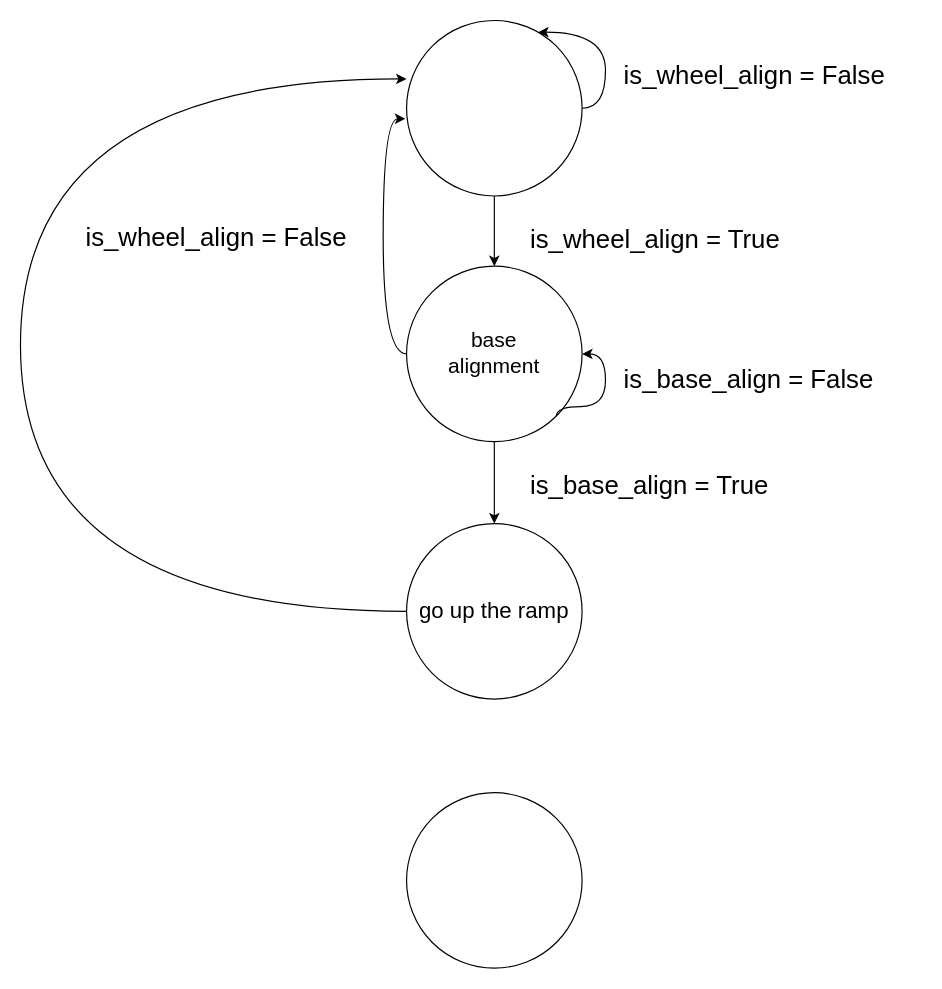
This 942x989 diagram has some shape labels left out. Each missing label, with the centre of its shape:
"Stop" belongs at (493,880).
"wheel alignment" belongs at (493,107).
